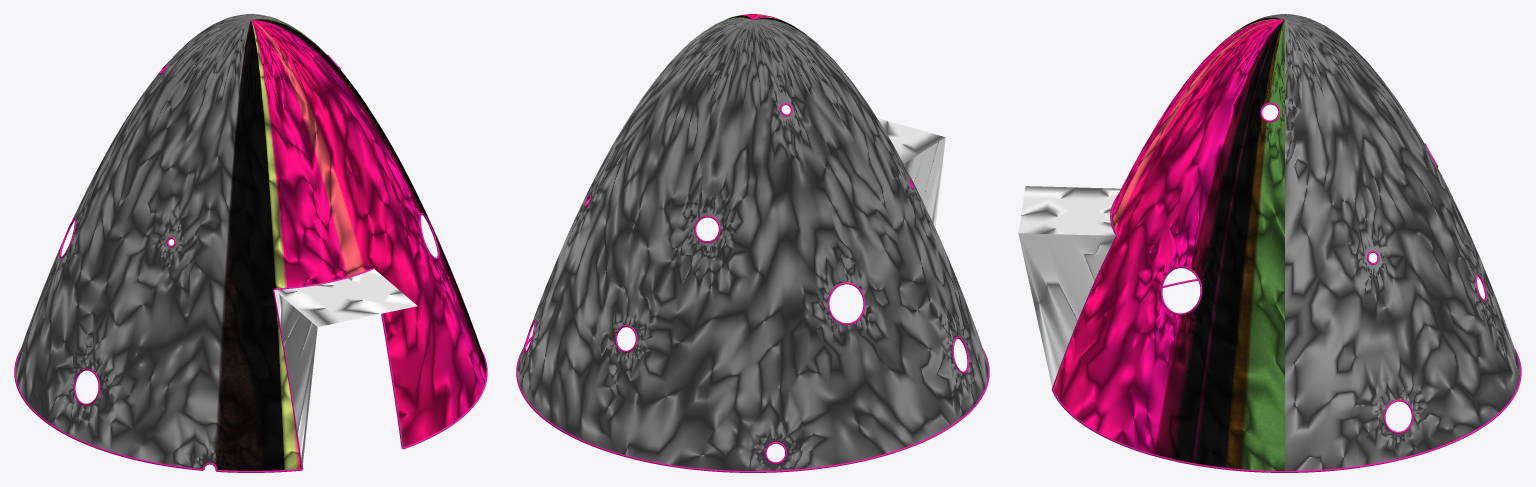
3 renders of one model, left to right at view 1: azimuth 30°, elevation 25°; view 2: azimuth 150°, elevation 25°; view 3: azimuth 270°, elevation 25°, orthographic.
Parts seen in each view (by area): view 1: Solids, Solids_2, Canopy, Openings, Canopy_2; view 2: Solids, Solids_2, Canopy, Openings, Canopy_2; view 3: Solids, Solids_2, Canopy, Canopy_2, Openings.
Boxes of the visible parts, bbox=[...] form: Solids: bbox=[15, 14, 486, 470]; Solids_2: bbox=[16, 15, 485, 470]; Canopy: bbox=[274, 269, 417, 466]; Openings: bbox=[14, 54, 487, 472]; Canopy_2: bbox=[274, 270, 415, 457]; Solids: bbox=[517, 14, 988, 470]; Solids_2: bbox=[518, 14, 987, 470]; Canopy: bbox=[877, 118, 945, 226]; Openings: bbox=[516, 103, 989, 472]; Canopy_2: bbox=[880, 119, 944, 227]; Solids: bbox=[1053, 14, 1520, 470]; Solids_2: bbox=[1054, 16, 1519, 469]; Canopy: bbox=[1018, 186, 1120, 386]; Canopy_2: bbox=[1019, 186, 1120, 381]; Openings: bbox=[1051, 102, 1521, 472].
Bounding box in the file's own units: 13.95 × 11.49 × 14.83.
Materials: 3 (3 with a texture image).
